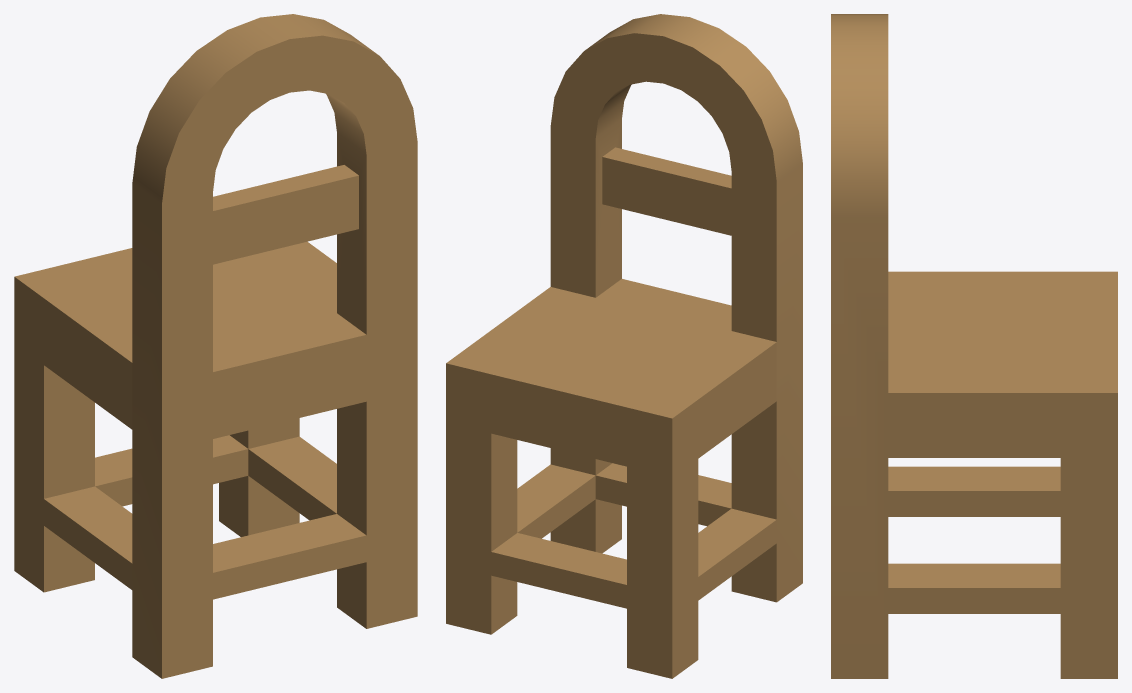
File: chairRounded.glb
The picture shows the model from 3 angles, left to right: view 1: azimuth 30°, elevation 25°; view 2: azimuth 150°, elevation 25°; view 3: azimuth 270°, elevation 25°; orthographic projection. The views are drawn at different scales.
Visible parts, largest first — view 1: chairRounded; view 2: chairRounded; view 3: chairRounded.
Boxes of the visible parts, x1,y1,x2,y2 form: chairRounded: (14,14,417,678); chairRounded: (446,14,802,678); chairRounded: (831,14,1117,678).
Bounding box in the file's own units: 0.4 × 0.91 × 0.4.
